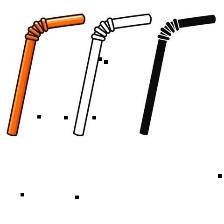drinking_straw: (70, 9, 157, 139), (2, 9, 88, 139), (135, 10, 219, 138)
